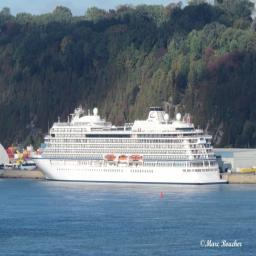cruises: (27, 104, 232, 188)
